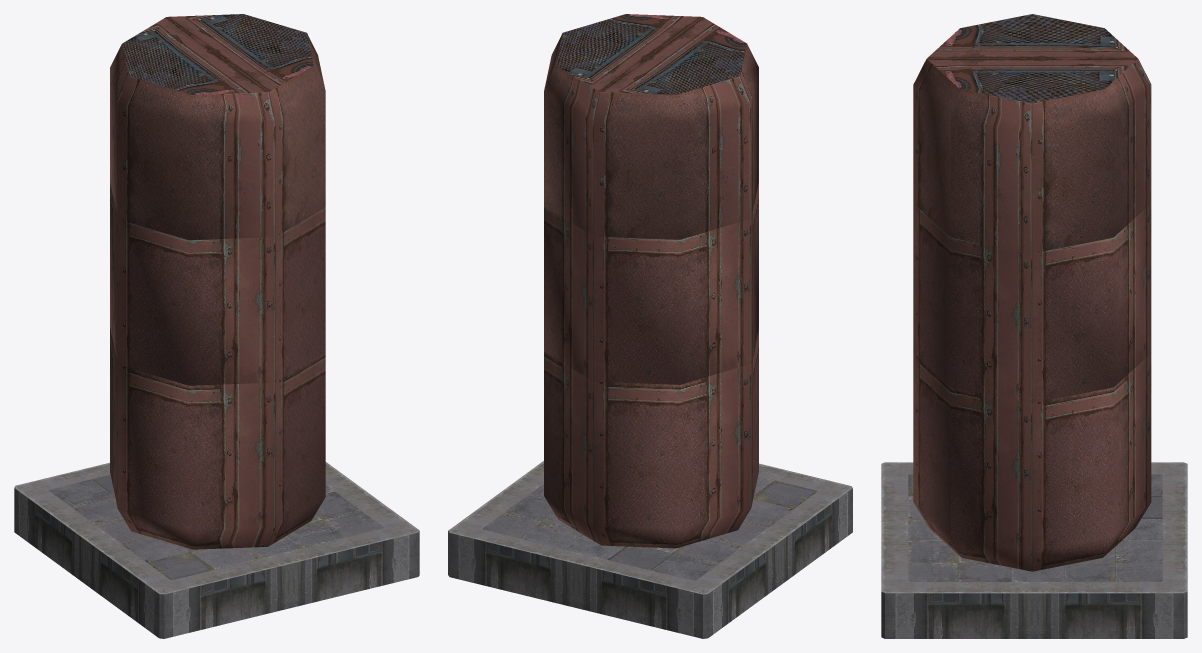
Rendered from Building_FdcDgz01_lod2.glb.
The picture shows the model from 3 angles, left to right: view 1: azimuth 30°, elevation 25°; view 2: azimuth 150°, elevation 25°; view 3: azimuth 270°, elevation 25°; orthographic projection. The views are drawn at different scales.
Visible parts, largest first — view 1: xiutz_fdc_dgz_01_lod2_0; view 2: xiutz_fdc_dgz_01_lod2_0; view 3: xiutz_fdc_dgz_01_lod2_0.
Boxes of the visible parts, left/top/right/bottom form: xiutz_fdc_dgz_01_lod2_0: left=14, top=14, right=419, bottom=638; xiutz_fdc_dgz_01_lod2_0: left=448, top=14, right=852, bottom=638; xiutz_fdc_dgz_01_lod2_0: left=881, top=14, right=1187, bottom=638.
Bounding box in the file's own units: 16.58 × 30.39 × 16.4.
Materials: 3 (3 with a texture image).
